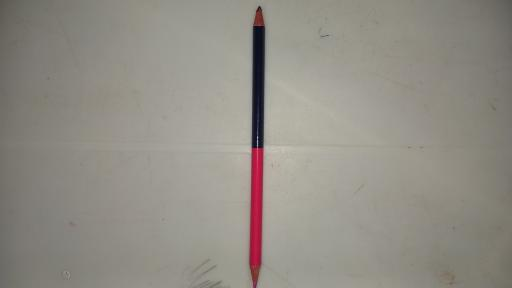Pencil: (249, 6, 265, 288)
